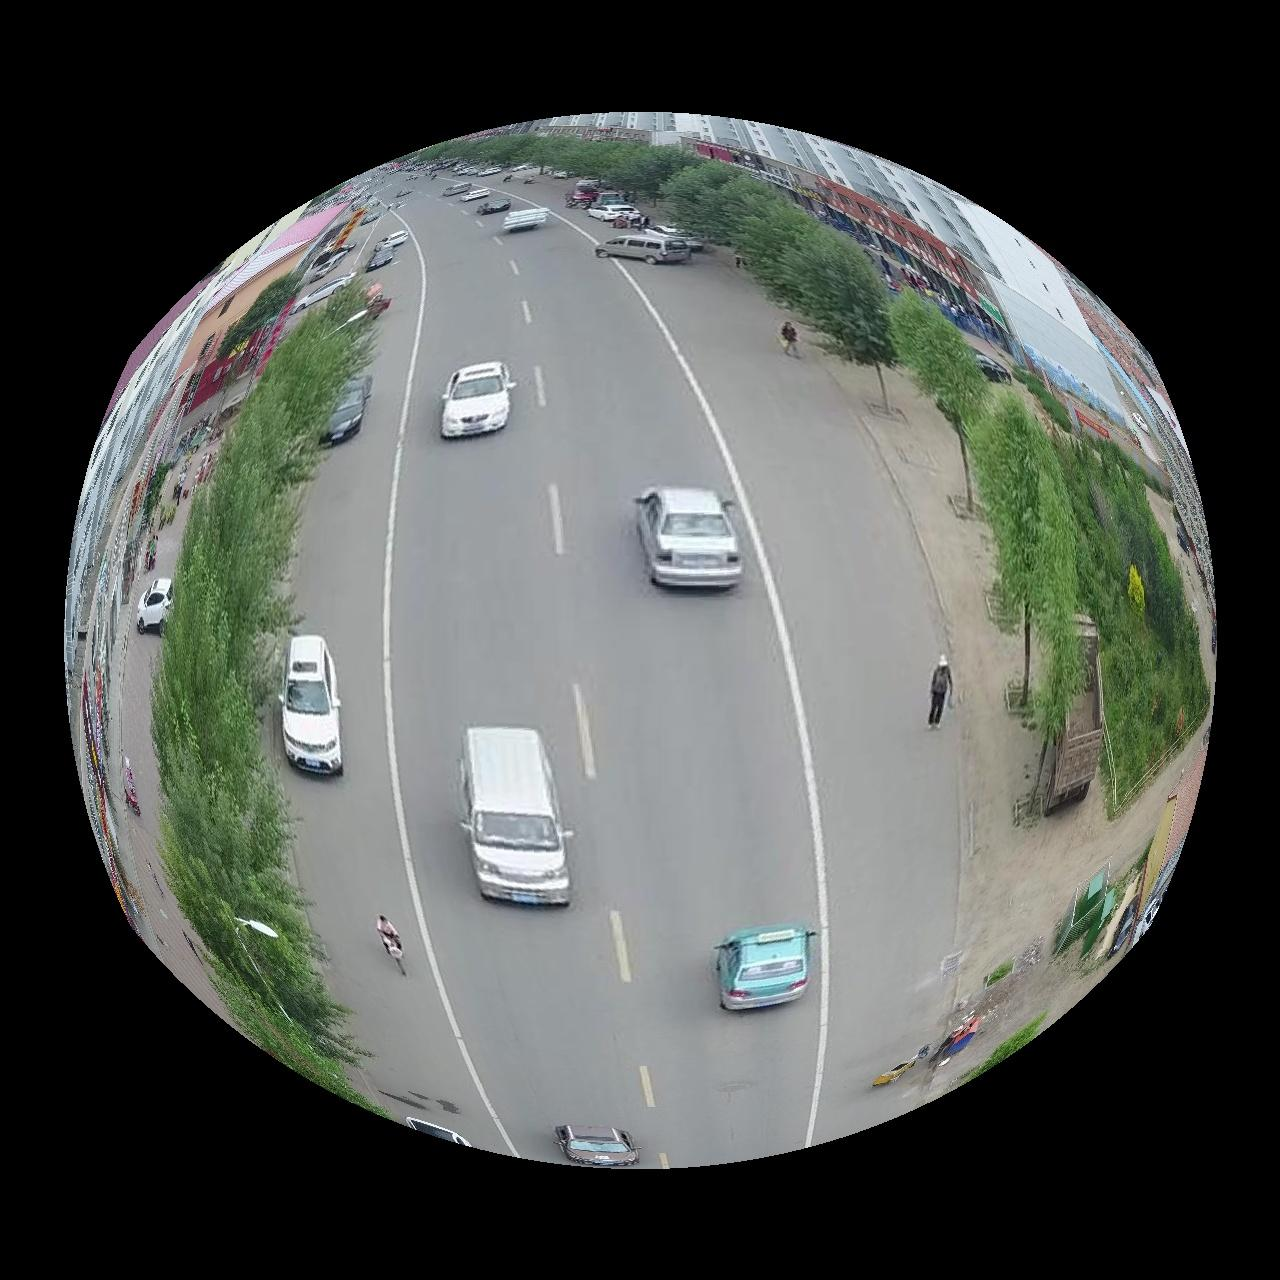cars: (461, 727, 572, 906), (636, 486, 744, 588), (281, 636, 343, 775), (716, 927, 813, 1012), (440, 362, 515, 437), (556, 1126, 639, 1170), (324, 375, 370, 443), (595, 233, 692, 263), (135, 578, 172, 633), (502, 206, 549, 231)
trees: (467, 135, 1212, 809), (151, 290, 372, 1096)
